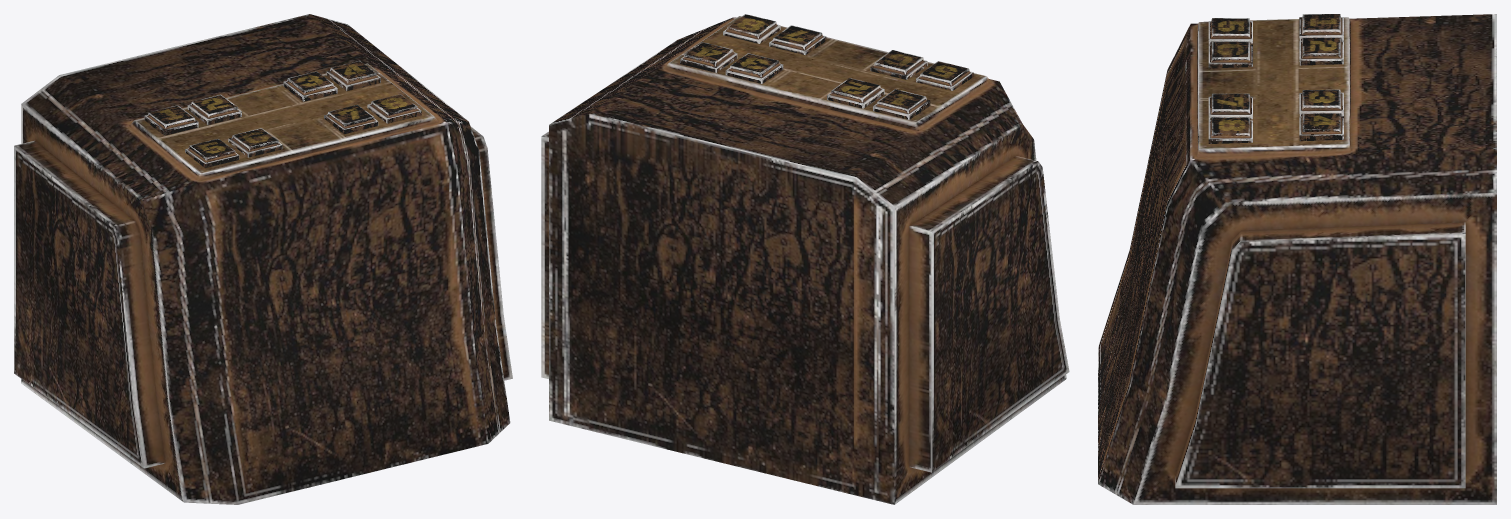
File: bunker_terminal.glb
3 renders of one model, left to right at view 1: azimuth 30°, elevation 25°; view 2: azimuth 150°, elevation 25°; view 3: azimuth 270°, elevation 25°, orthographic. The views are drawn at different scales.
Parts seen in each view (by area): view 1: bunker_terminal; view 2: bunker_terminal; view 3: bunker_terminal.
Boxes of the visible parts, x1,y1,x2,y2 form: bunker_terminal: [14, 14, 512, 504]; bunker_terminal: [541, 14, 1069, 504]; bunker_terminal: [1098, 14, 1496, 504].
Bounding box in the file's own units: 1.5 × 1.2 × 1.26.
Materials: 1 (1 with a texture image).
